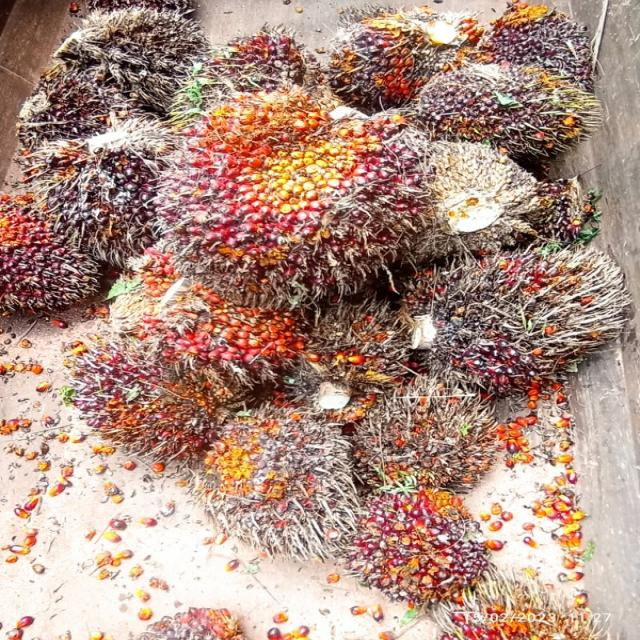fraksi 00: (404, 44, 600, 165), (25, 126, 185, 270), (313, 1, 467, 112), (0, 55, 149, 154), (482, 3, 606, 94)
fraksi 1: (407, 219, 620, 395), (197, 390, 358, 552), (64, 327, 228, 477), (345, 477, 506, 606), (0, 187, 110, 325)
fraksi 3: (141, 69, 433, 311), (127, 261, 335, 394)
fraksi 4: (348, 355, 515, 508)
